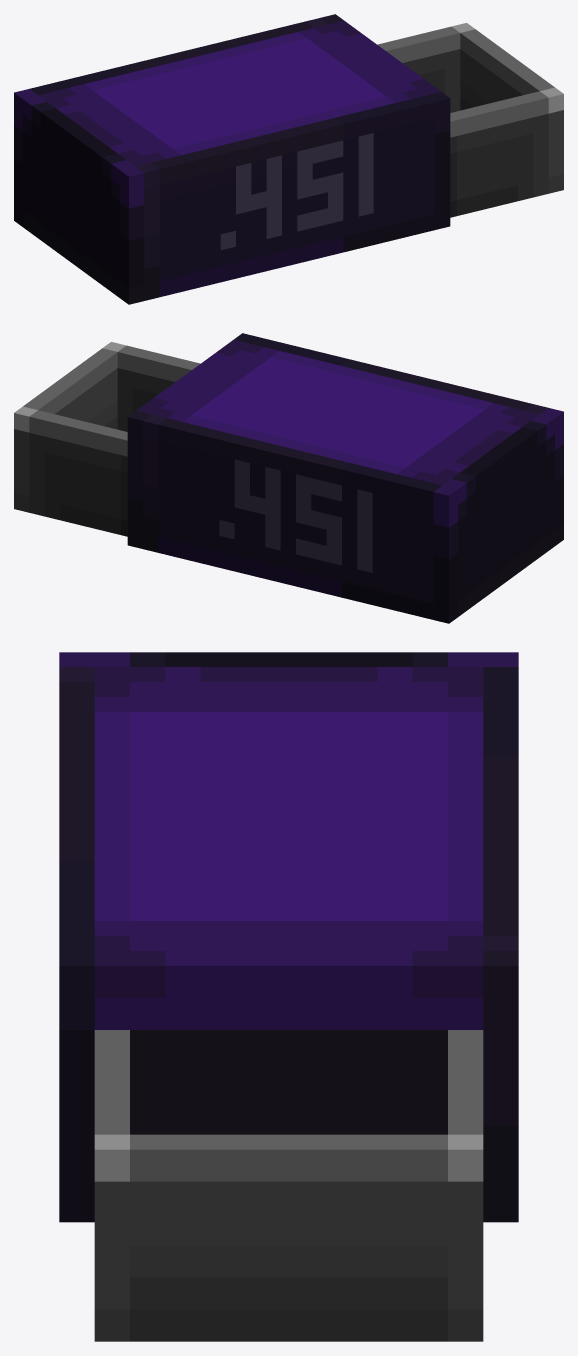
File: 451bxE.obj
3 views of the same model, one above another, from view 1: azimuth 30°, elevation 25°; view 2: azimuth 150°, elevation 25°; view 3: azimuth 270°, elevation 25° (orthographic). The views are drawn at different scales.
Size of the model in its own units: 2.9 by 0.8 by 1.3.
Materials: 1 (1 with a texture image).
